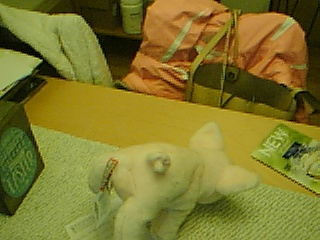piggy: (87, 120, 261, 240)
